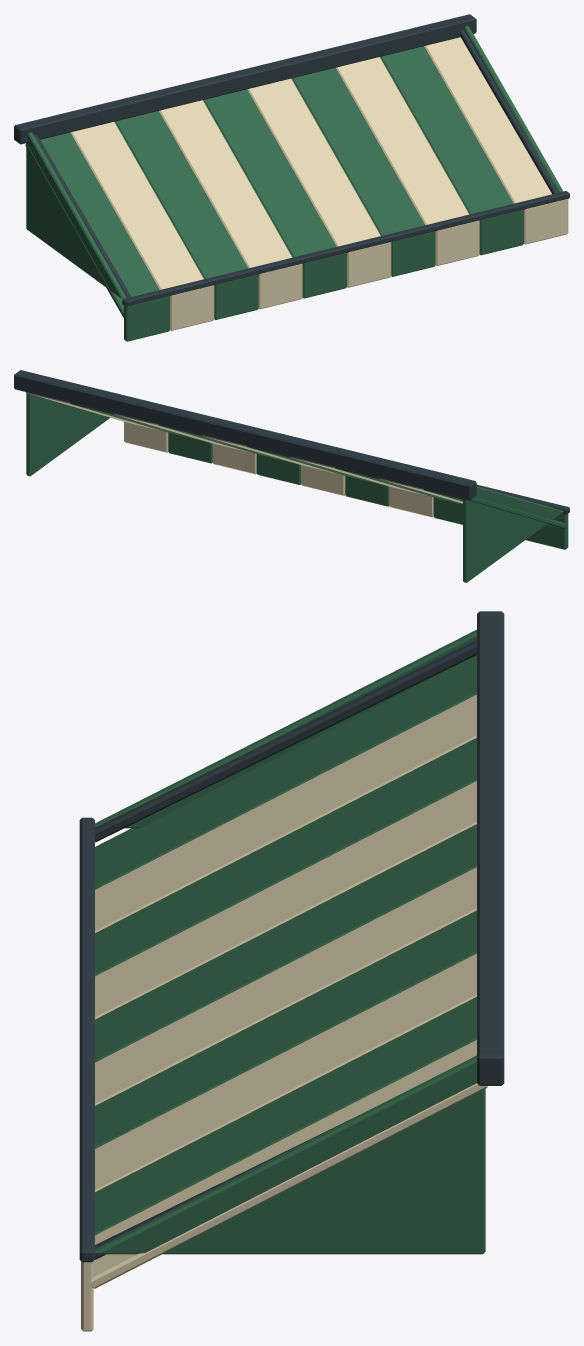
The model's file is b12_canvas_wedge_shop_awning.glb.
3 renders of one model, top to bottom at view 1: azimuth 30°, elevation 25°; view 2: azimuth 150°, elevation 25°; view 3: azimuth 270°, elevation 25°, orthographic. The views are drawn at different scales.
Parts seen in each view (by area): view 1: b12_canvas_wedge_shop_awning; view 2: b12_canvas_wedge_shop_awning; view 3: b12_canvas_wedge_shop_awning.
Part boxes in pixels (x1=…): b12_canvas_wedge_shop_awning: x1=14, y1=14, x2=569, y2=341; b12_canvas_wedge_shop_awning: x1=14, y1=370, x2=569, y2=582; b12_canvas_wedge_shop_awning: x1=79, y1=611, x2=504, y2=1331.
Size of the model in its own units: 3.1 by 0.92 by 1.25.
